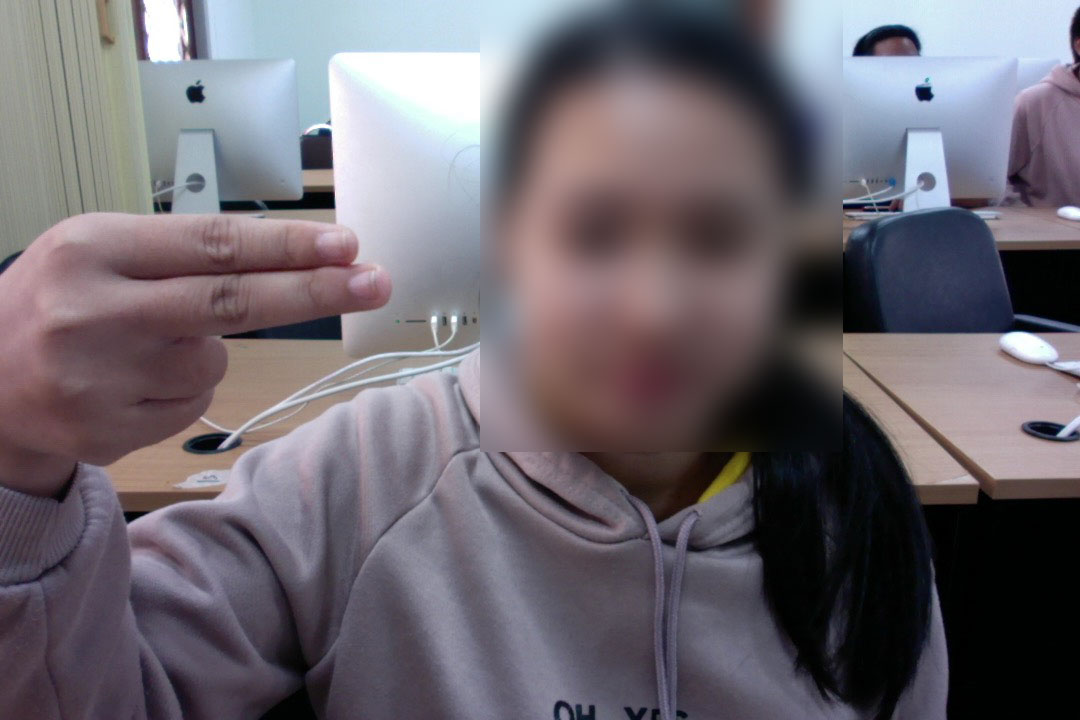hor: (5, 204, 405, 470)
